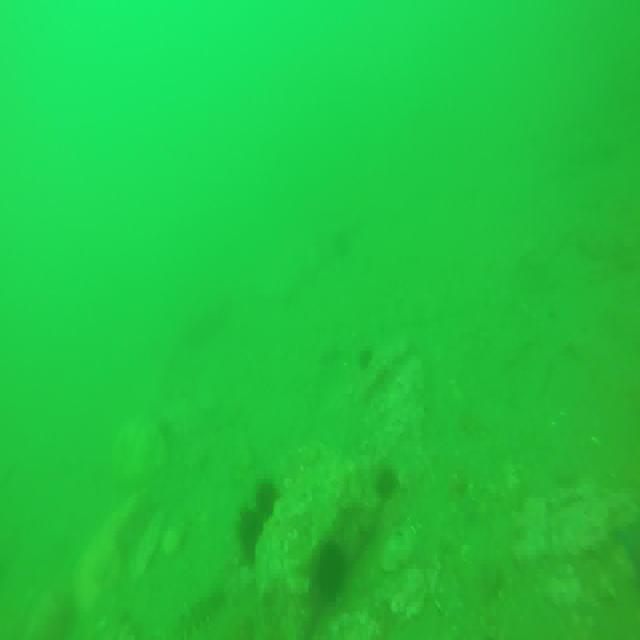echinus: (319, 540, 349, 601), (238, 506, 262, 560), (252, 476, 279, 522), (377, 464, 398, 498)
holothurian: (164, 588, 229, 640)
